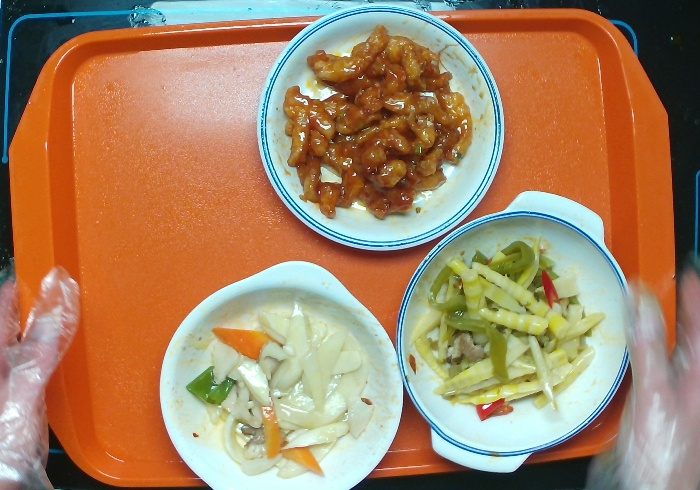HZYJPL-Dai_Er_Bai_Yuan_Wan: (156, 258, 402, 490)
HZYJPL-Lan_Bian_Dai_Er_Wan: (393, 188, 631, 475)
HZYJPL-Lan_Bian_Yuan_Die: (255, 2, 507, 254)
